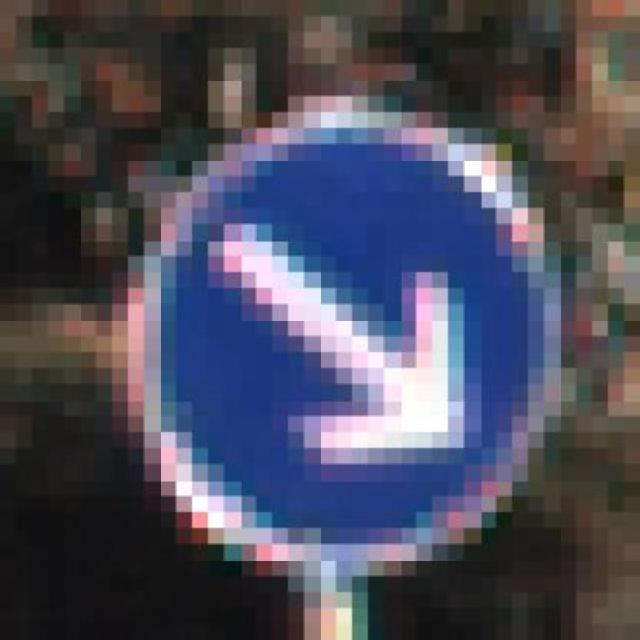Keep-Right: (80, 79, 592, 576)
